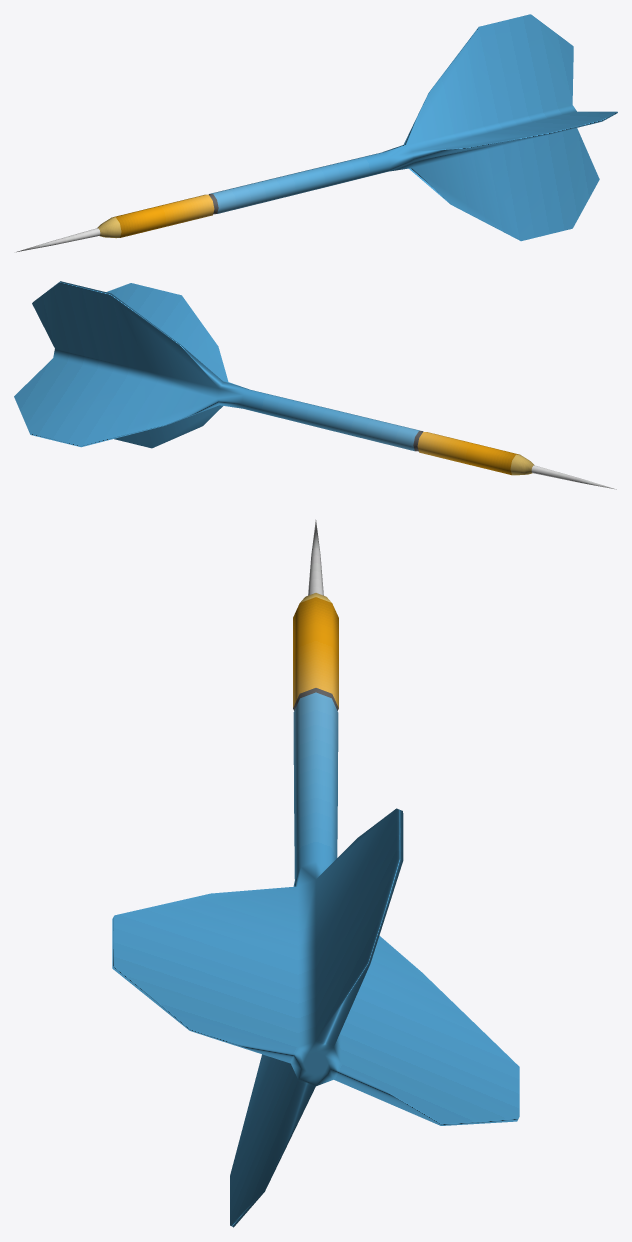
File: SM_Dart_blue.fbx
3 views of the same model, one above another, from view 1: azimuth 30°, elevation 25°; view 2: azimuth 150°, elevation 25°; view 3: azimuth 270°, elevation 25° (orthographic). The views are drawn at different scales.
Parts seen in each view (by area): view 1: Dart_blue; view 2: Dart_blue; view 3: Dart_blue.
Part boxes in pixels (<box>): Dart_blue: <box>16,14,617,252</box>; Dart_blue: <box>14,281,616,489</box>; Dart_blue: <box>112,519,519,1227</box>.
Size of the model in its own units: 34.15 by 10.54 by 10.53.
